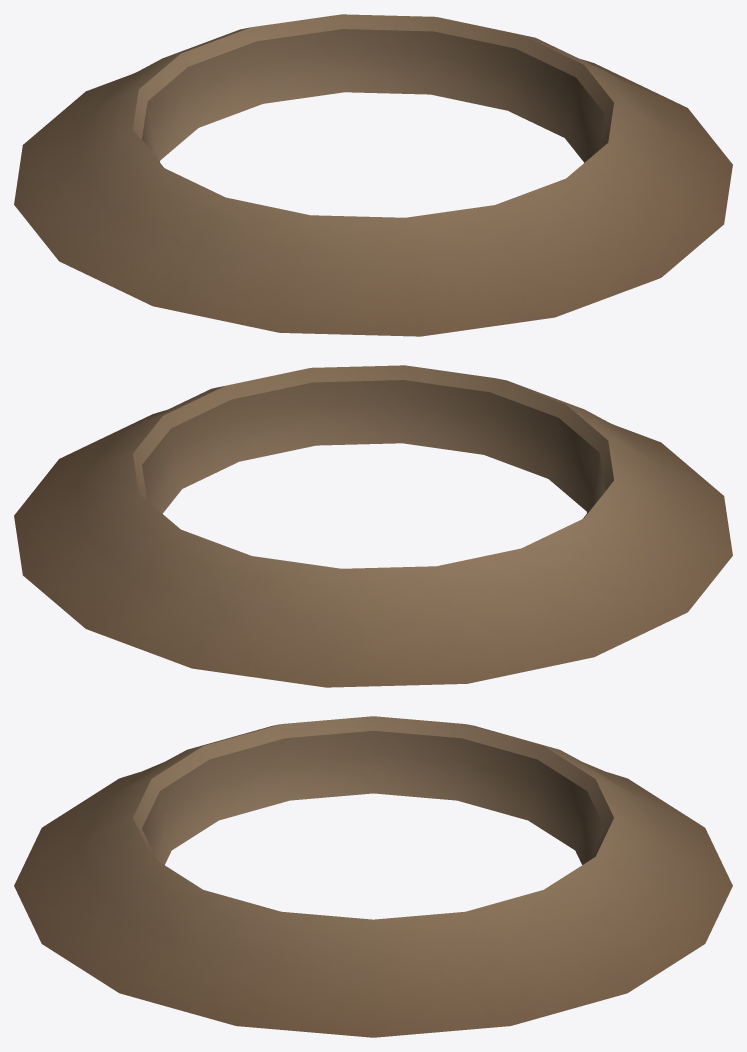
The model's file is floor_hole.fbx.
3 renders of one model, top to bottom at view 1: azimuth 30°, elevation 25°; view 2: azimuth 150°, elevation 25°; view 3: azimuth 270°, elevation 25°, orthographic.
Visible parts, largest first — view 1: foor_hole; view 2: foor_hole; view 3: foor_hole.
Boxes of the visible parts, bbox=[...] form: foor_hole: bbox=[14, 14, 732, 336]; foor_hole: bbox=[14, 365, 732, 687]; foor_hole: bbox=[14, 716, 732, 1037].
Size of the model in its own units: 532 by 55.47 by 532.
